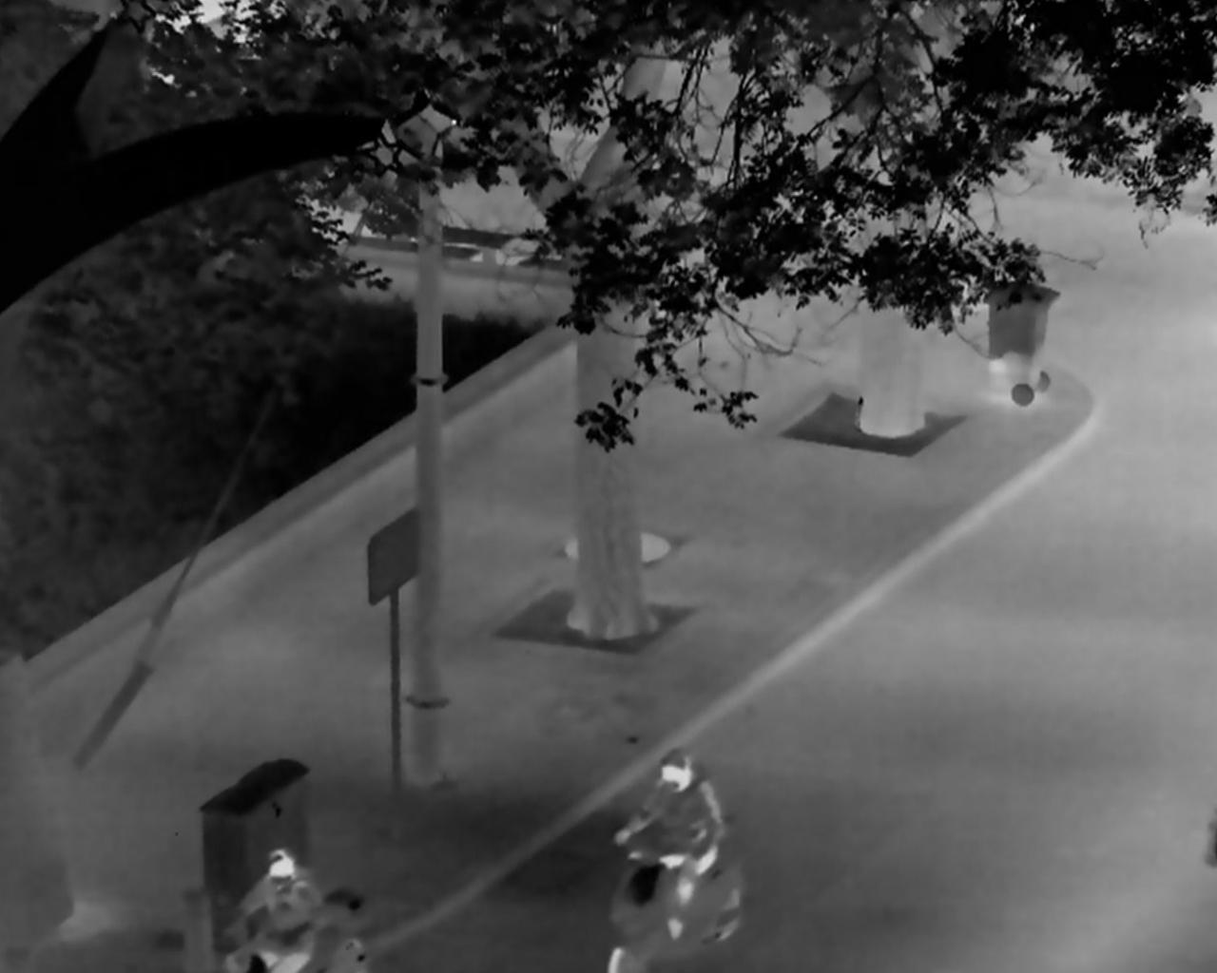person: (614, 749, 724, 939), (225, 848, 333, 973)
